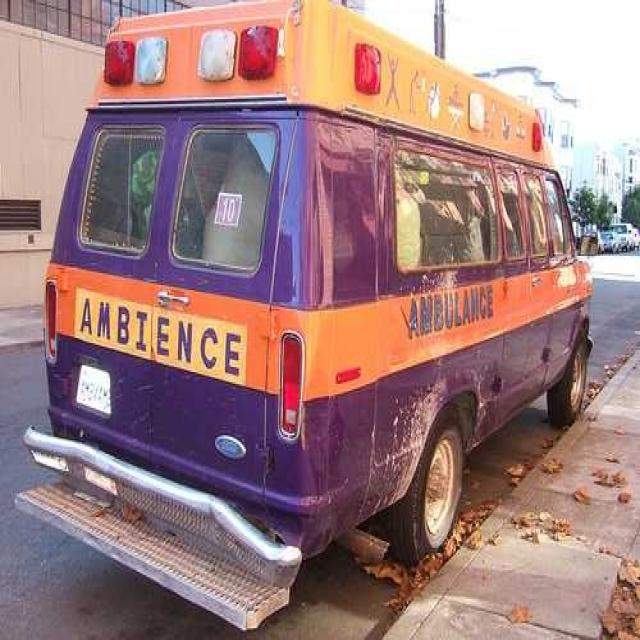ambulance: (21, 4, 593, 632)
